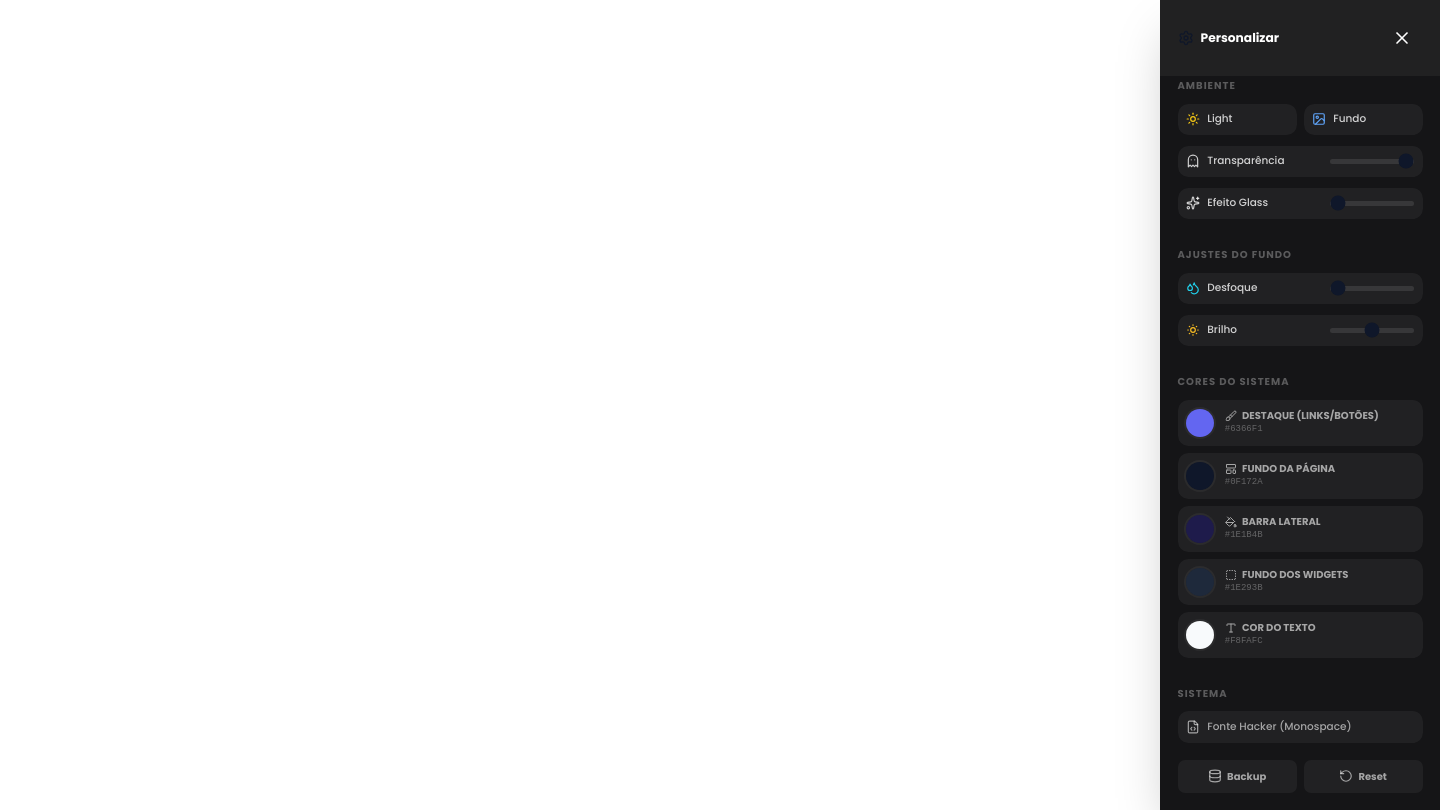
Test: reset › cancelar não apaga nada
(page scrolled)
Click the button "Reset": [1363, 776] box x1=1304 y1=760 x2=1422 y2=792
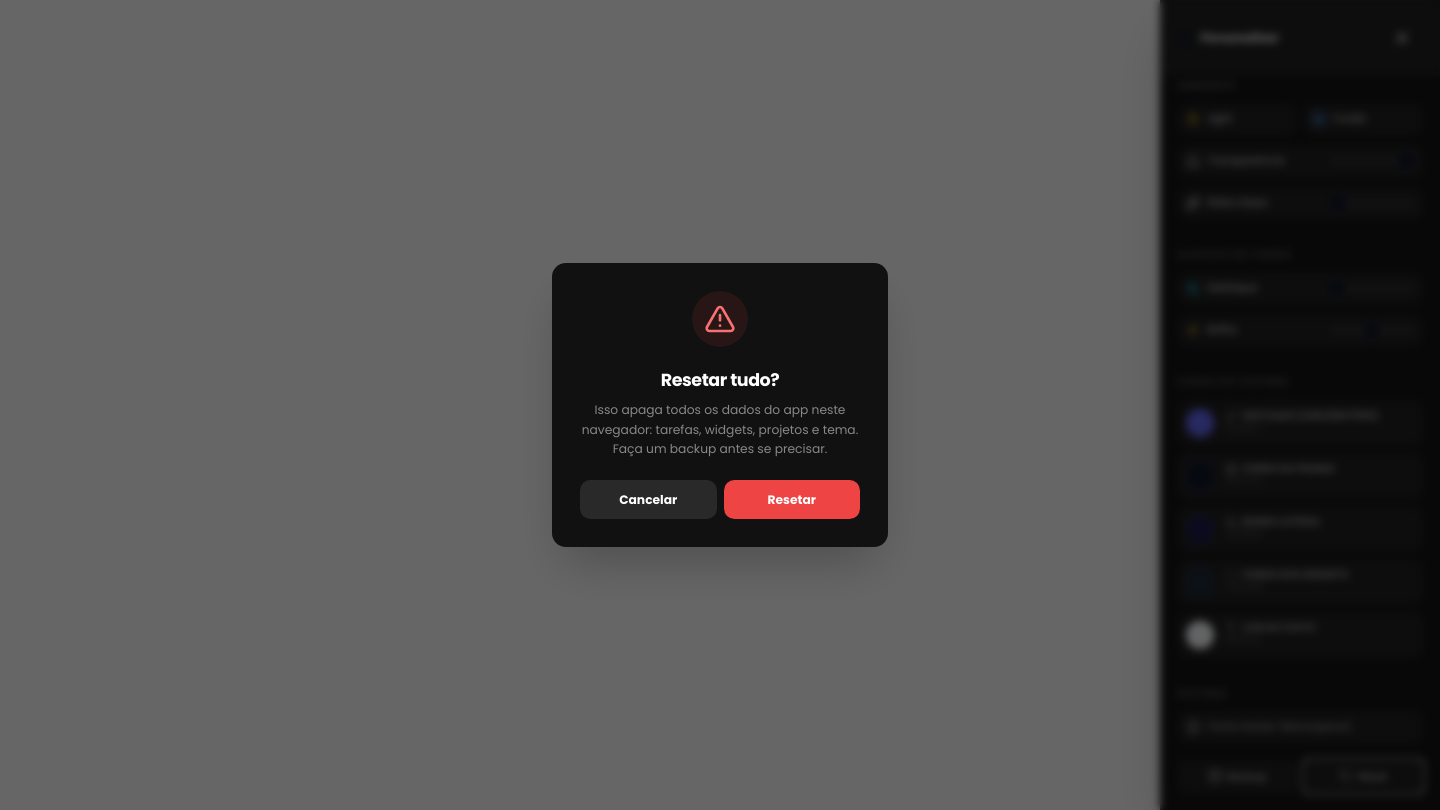
Click the button "Cancelar": [648, 500] box x1=580 y1=480 x2=716 y2=519
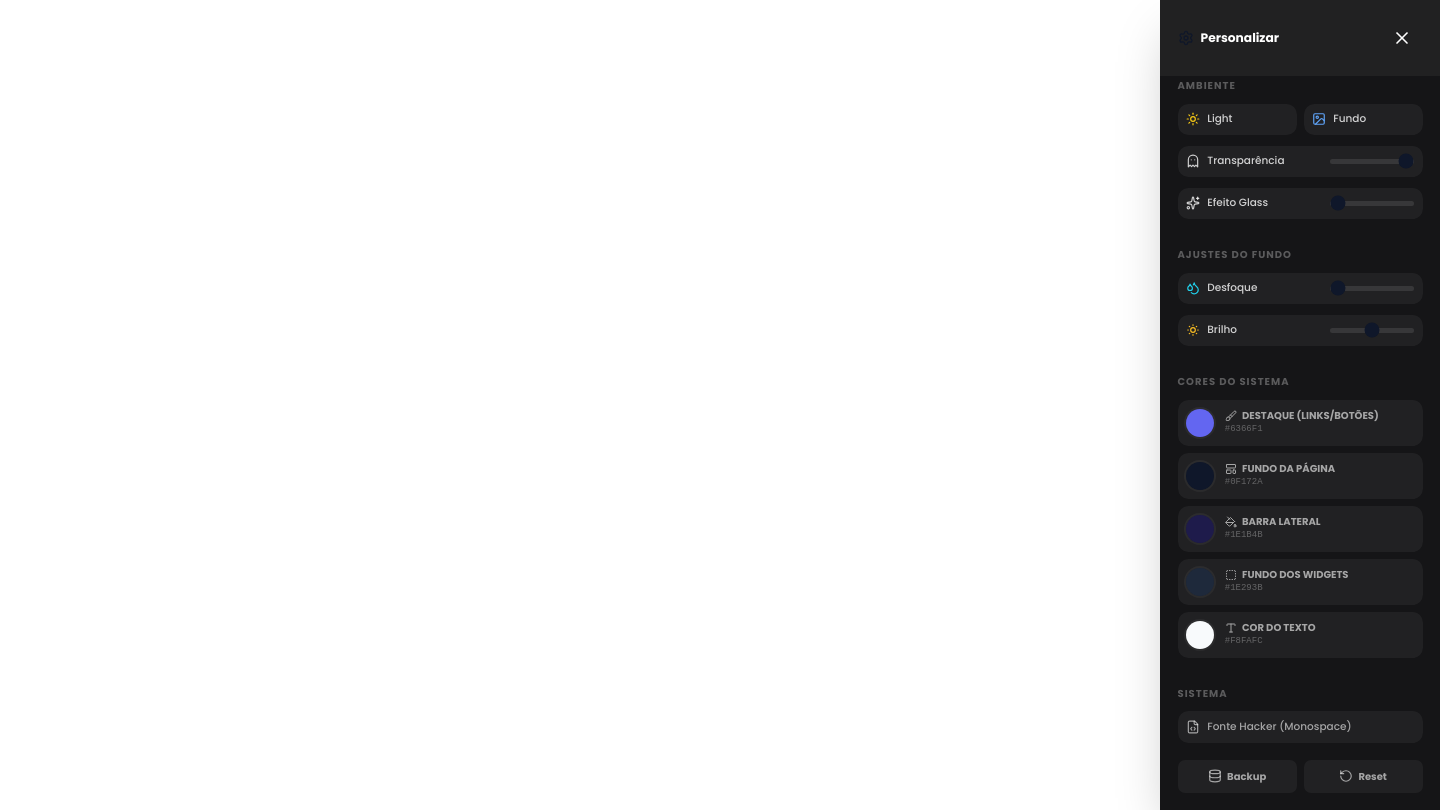
Expected: the heading "Resetar tudo?" is gone
